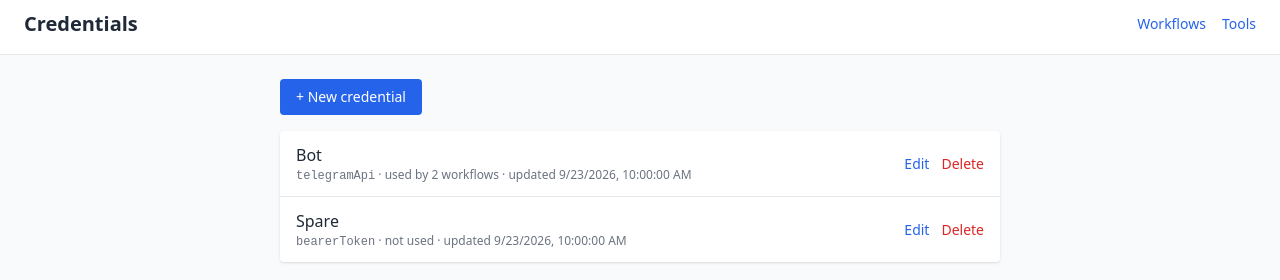
it: CredentialsView › removes the row after a successful delete
The width and height of the screenshot is (1280, 280).
Click the button with test id "delete-credential" in the row of "bearerToken" at (963, 230), box [941,220,984,240]
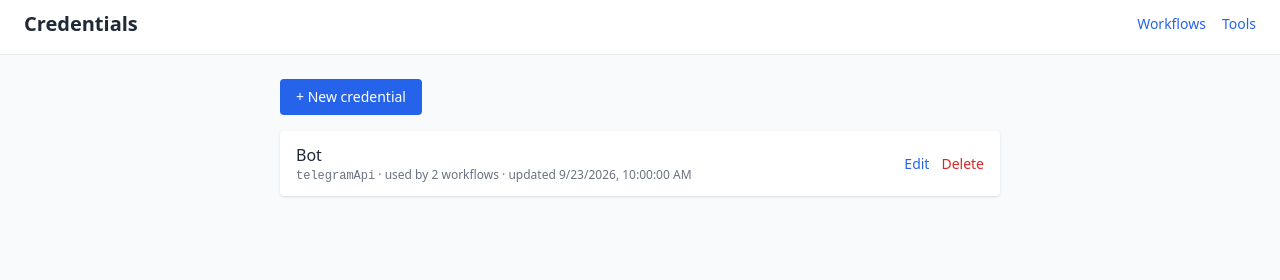
Check: the number of list items with test id "credential-row" is 1, box [280,131,1000,196]
